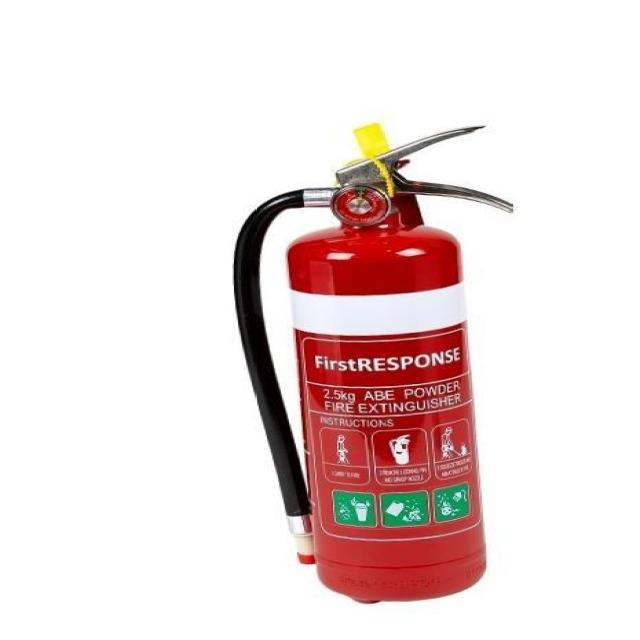fire_extinguisher: (220, 116, 524, 614)
